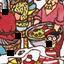waldo: (42, 25, 60, 48)
